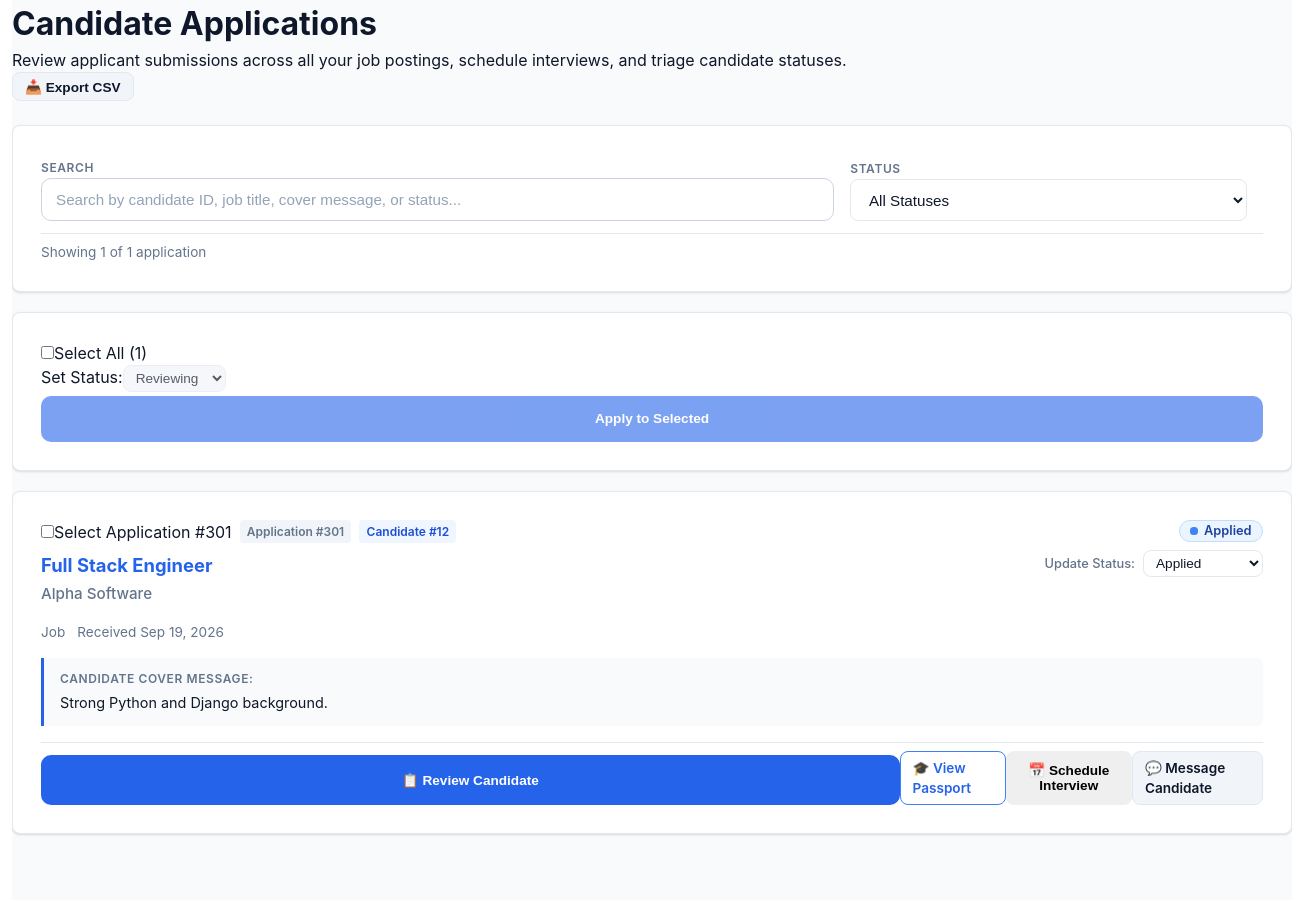
Test: RecruiterApplicationsPage › successfully updates candidate status and shows success toast
The image size is (1292, 900).
expect the text "Application #301" is shown: met, box [240, 520, 351, 543]
Select "Shortlisted" in the dropdown named "Change status for Application #301". click: (1203, 564)
box: [1143, 550, 1263, 577]
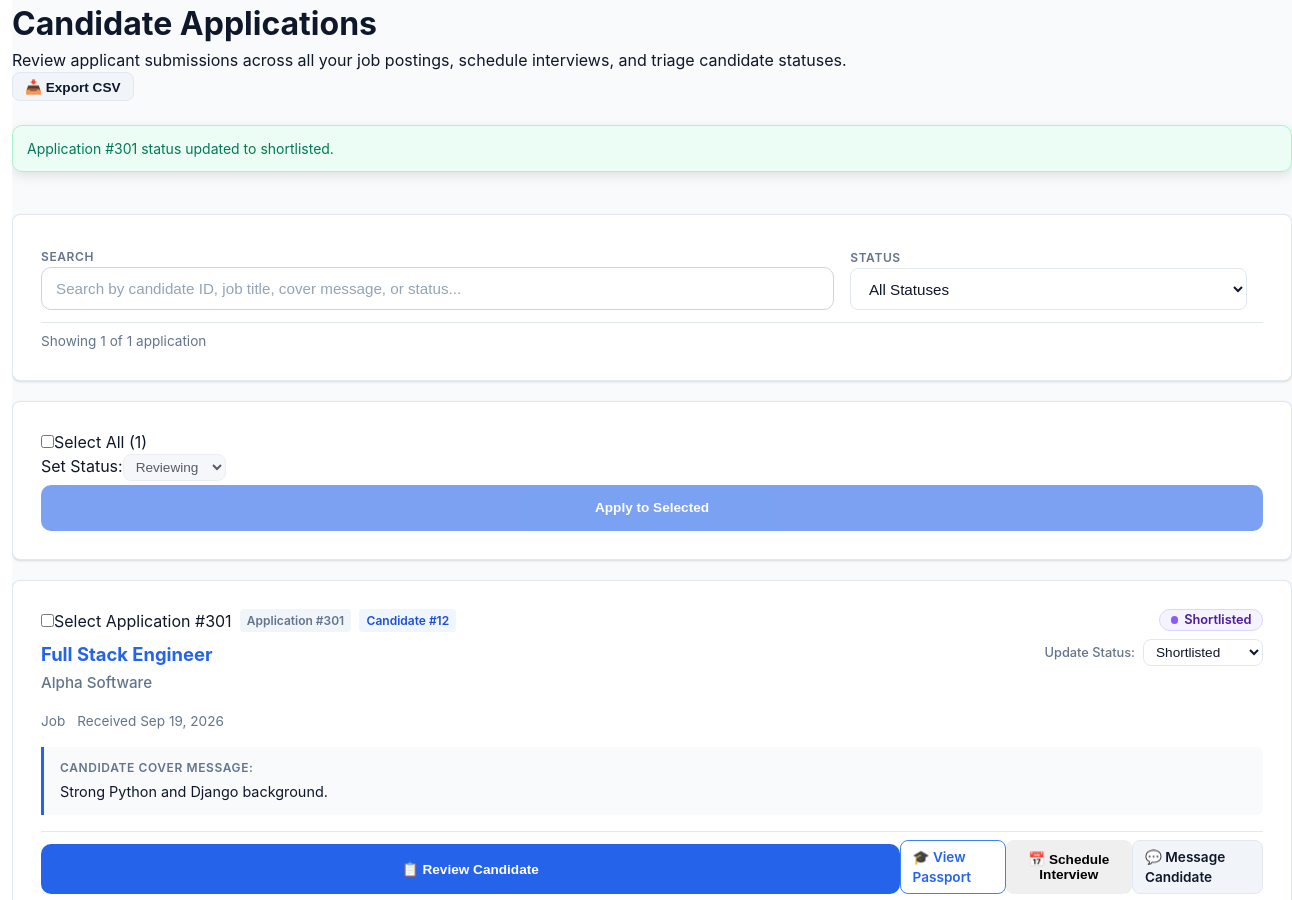
expect the text "Application #301 status updated to shortlisted." is shown: met, box [12, 125, 1291, 172]
